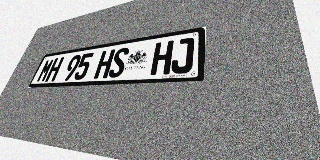5: (73, 52, 94, 80)
9: (62, 54, 82, 81)
H: (150, 40, 174, 75), (93, 49, 115, 79), (45, 57, 64, 82)
J: (170, 37, 195, 74)
M: (36, 58, 55, 82)
S: (107, 47, 130, 78)
